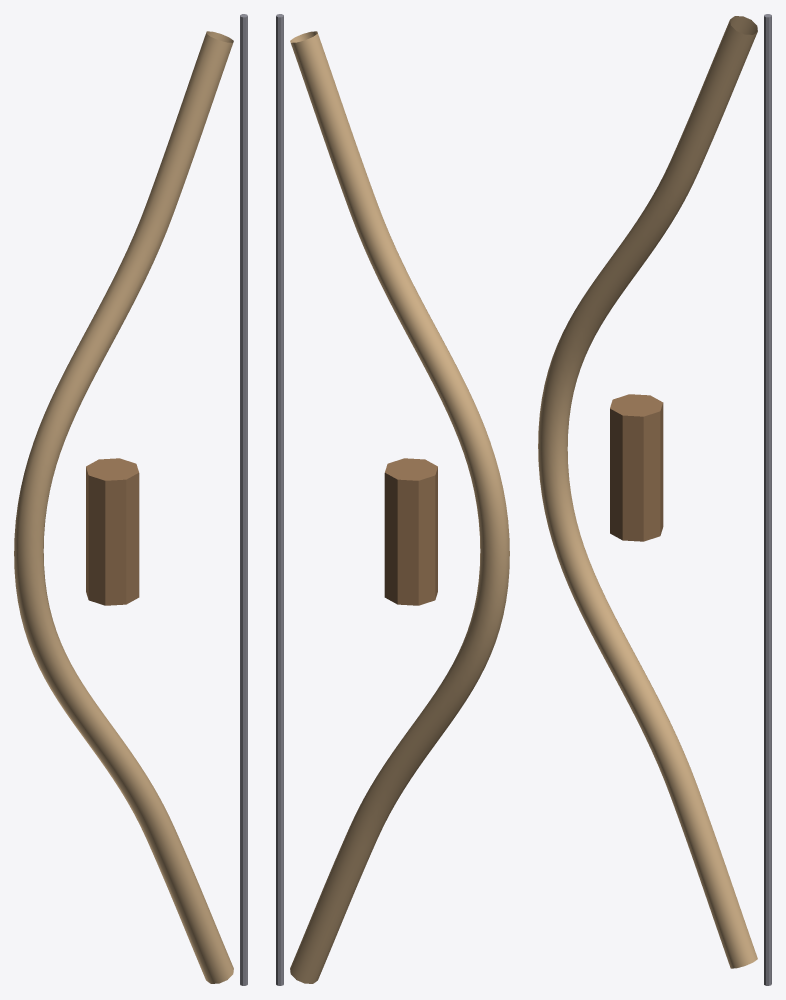
The model's file is wpn_long_bow.glb.
The picture shows the model from 3 angles, left to right: view 1: azimuth 30°, elevation 25°; view 2: azimuth 150°, elevation 25°; view 3: azimuth 330°, elevation 25°; orthographic projection.
Parts seen in each view (by area): view 1: Weapon_LongBow; view 2: Weapon_LongBow; view 3: Weapon_LongBow.
Boxes of the visible parts, box(x1,y1,x2,y2) form: Weapon_LongBow: box(14, 14, 247, 985); Weapon_LongBow: box(276, 14, 509, 985); Weapon_LongBow: box(538, 14, 771, 985).
Bounding box in the file's own units: 0.3869 × 1.55 × 0.08.
